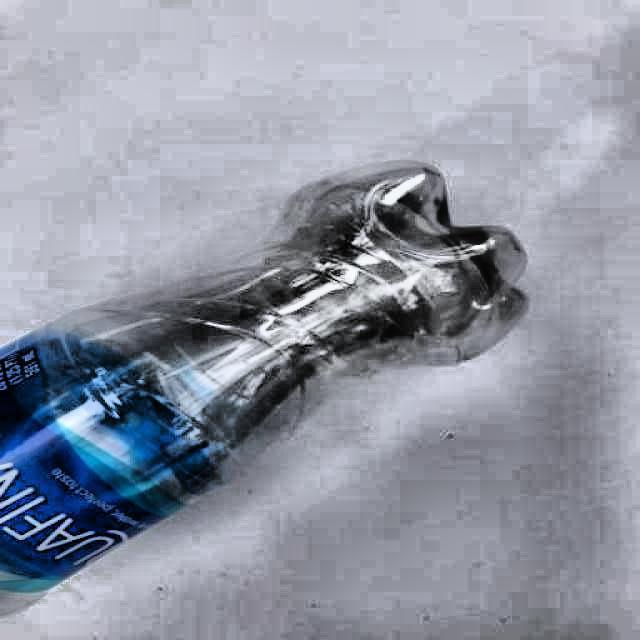plastic: (0, 164, 525, 613)
